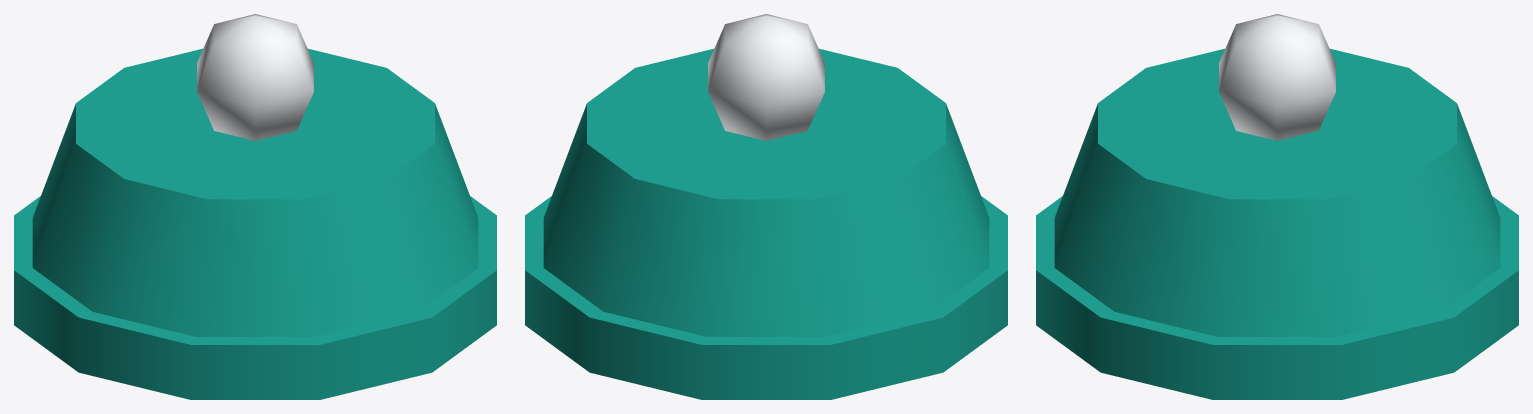
File: CM_Accessory_Beanie_Teal.fbx
The picture shows the model from 3 angles, left to right: view 1: azimuth 30°, elevation 25°; view 2: azimuth 150°, elevation 25°; view 3: azimuth 270°, elevation 25°; orthographic projection.
Parts seen in each view (by area): view 1: Handle; view 2: Handle; view 3: Handle.
Part boxes in pixels (box(x1,y1,x2,y2)): Handle: box(14, 14, 496, 399); Handle: box(525, 14, 1007, 399); Handle: box(1036, 14, 1518, 399).
Bounding box in the file's own units: 1.43 × 1.43 × 0.92.
1 material, 1 textured.
